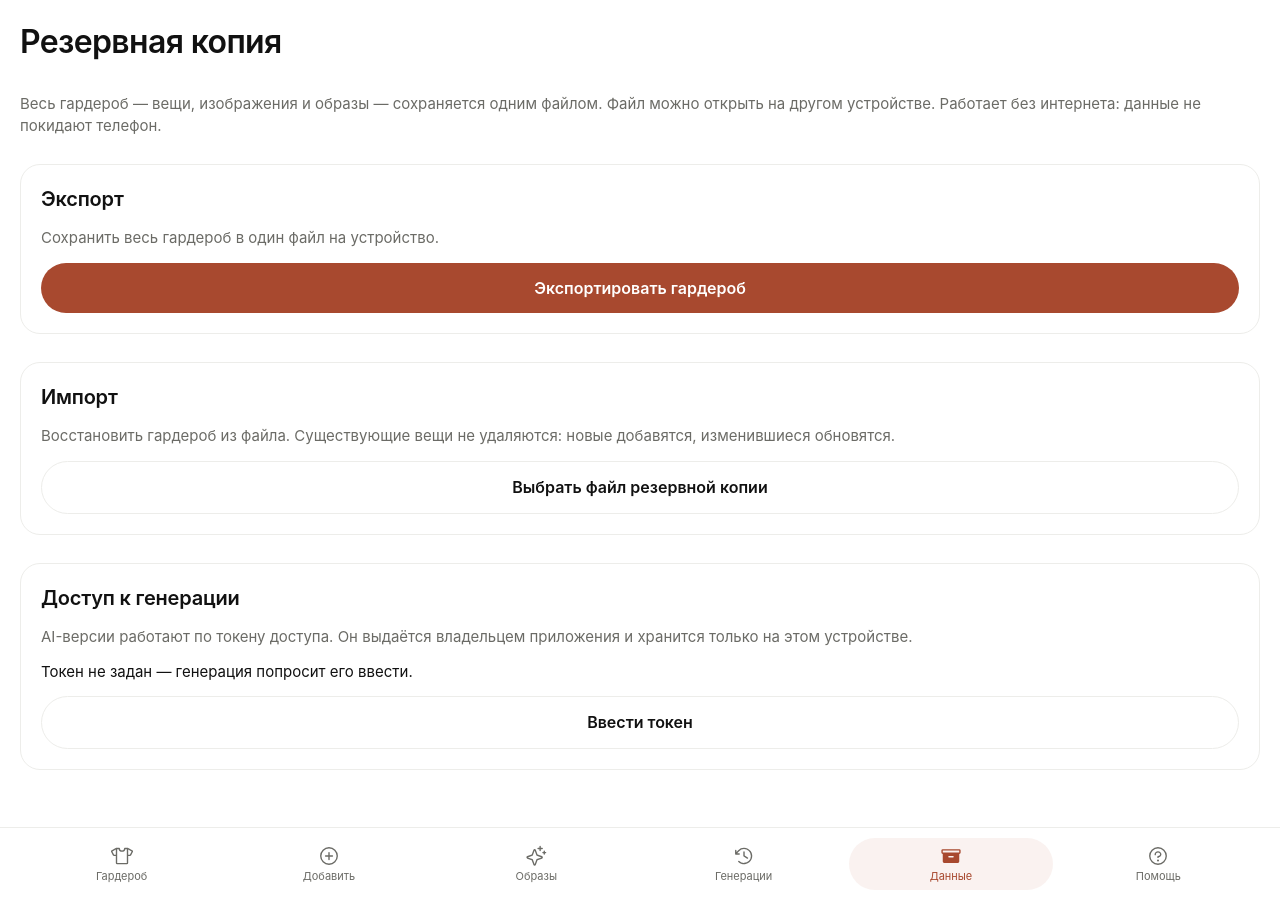
it: Экран резервной копии (T19) › экспортирует гардероб одним файлом и сообщает итог
The image size is (1280, 900).
Click the button "Экспортировать гардероб" at (640, 288), box left=41, top=263, right=1239, bottom=313
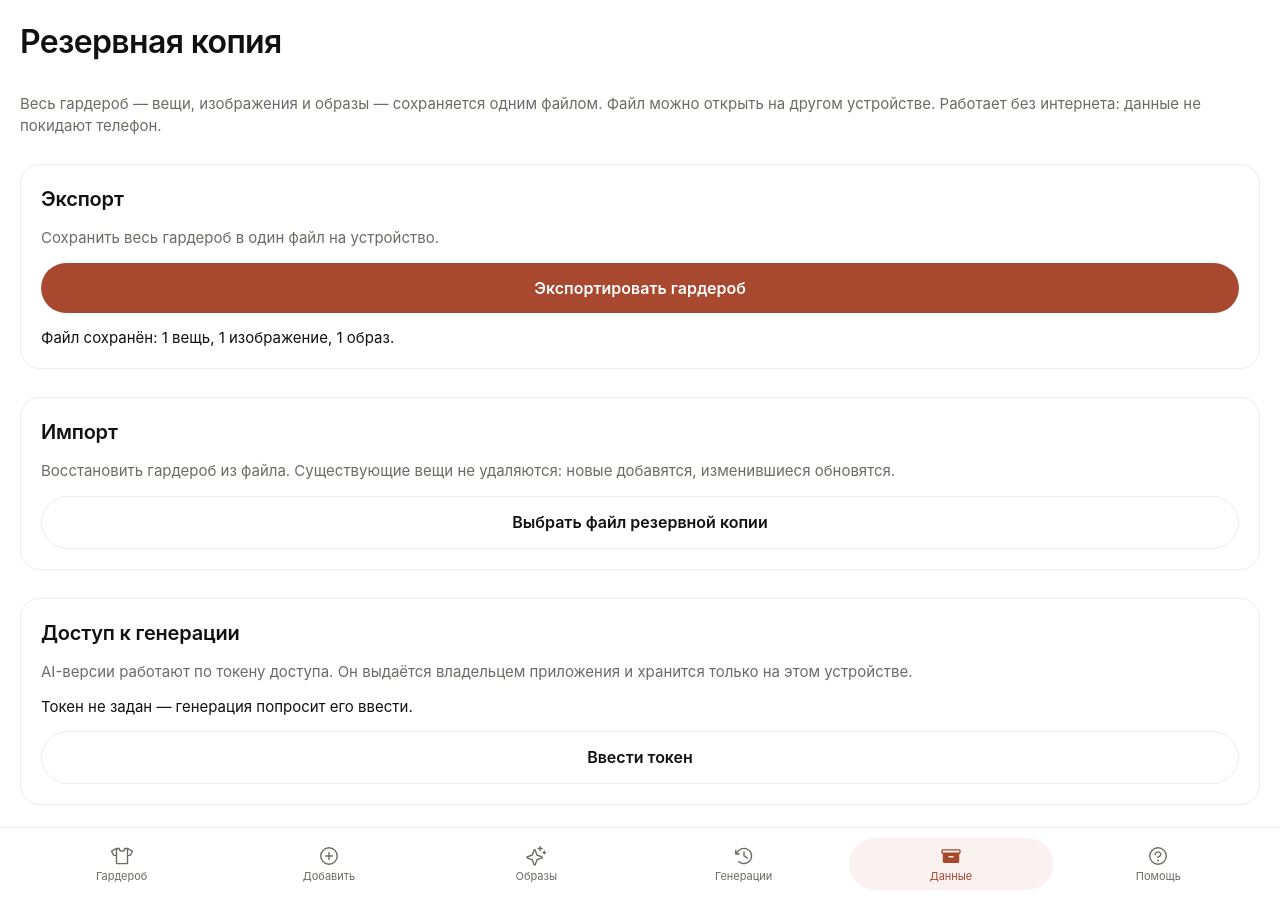
Expected: the text "Файл сохранён: 1 вещь, 1 изображение, 1 образ." is shown, left=41, top=328, right=394, bottom=347
